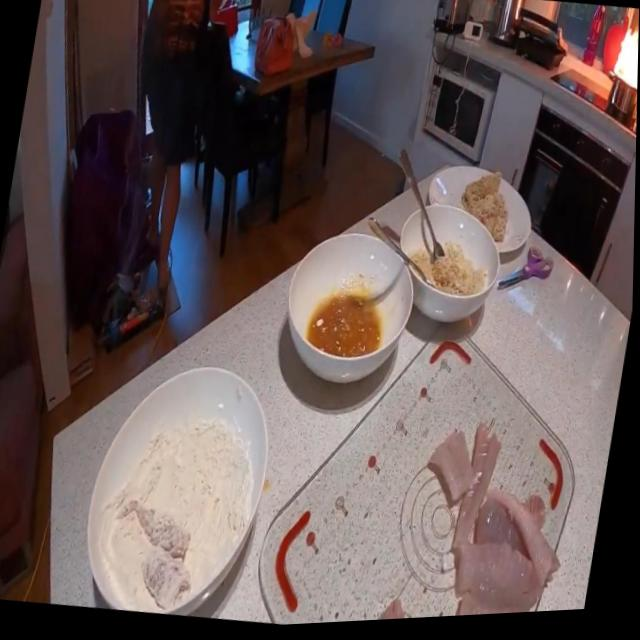fire: (608, 13, 639, 106)
